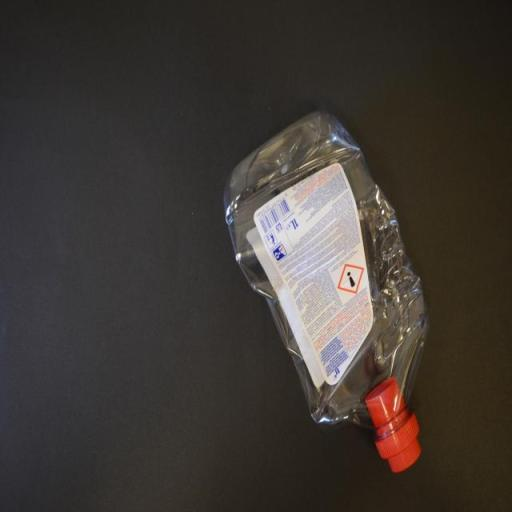plastic: (223, 106, 424, 476)
